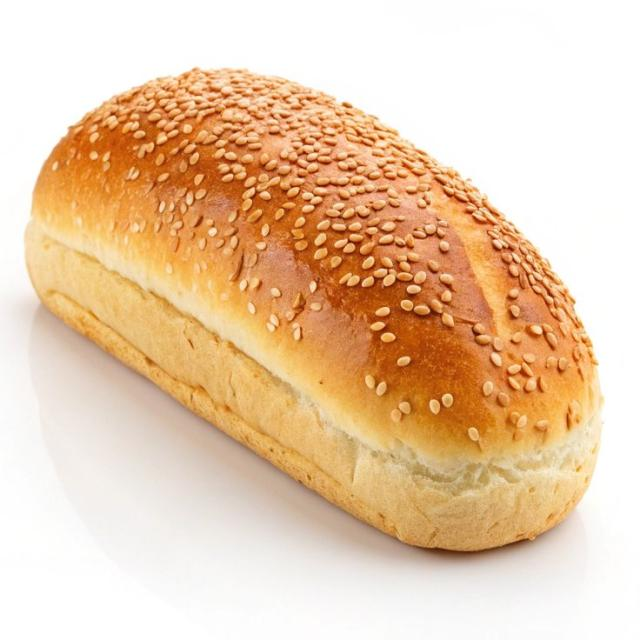bread: (27, 70, 600, 550)
